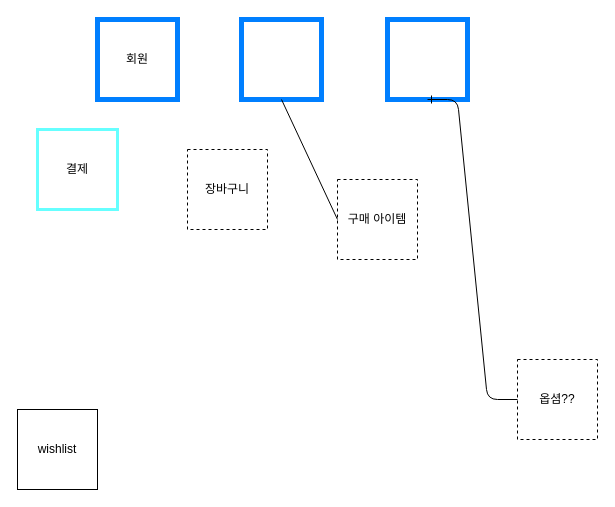
The diagram is 615 pixels wide and 507 high, and some of its shapes have lost their labels. The box of each missing label's shape, as (x1, y1, x2, y2) in pixels:
구매: (238, 16, 324, 102)
상품: (384, 16, 470, 102)
